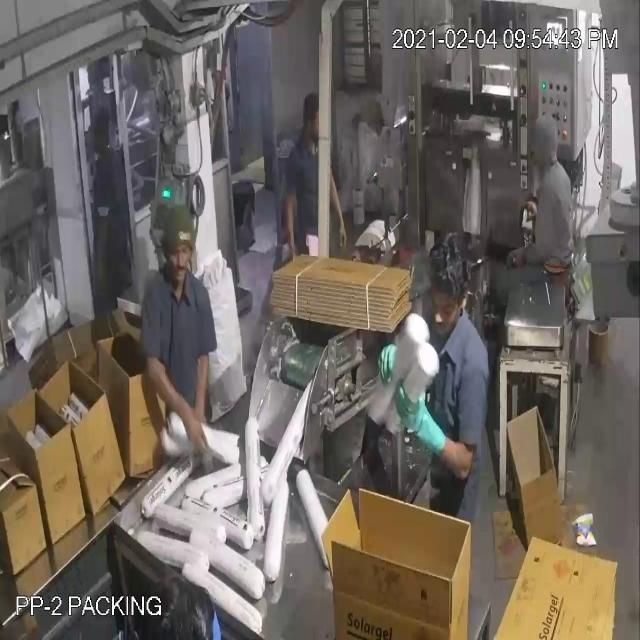No_Gloves: (20, 56, 522, 416)
